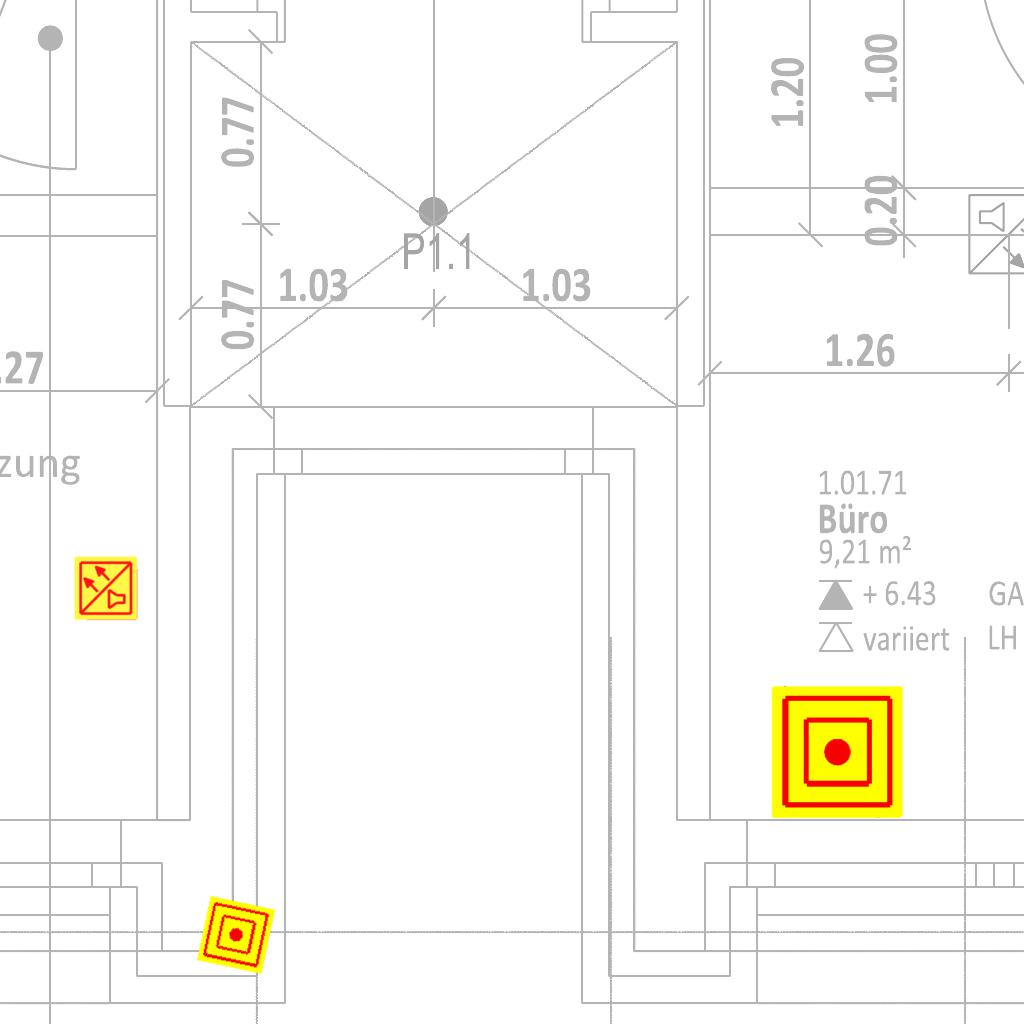NAM-Nichtautomatischer_Melder: (771, 686, 903, 818), (196, 895, 276, 975)
OKW_Multisensormelder_(Kombination_optischer_Rauch-Kahlenmonoxid_Waerme-Melder): (73, 555, 139, 621)
